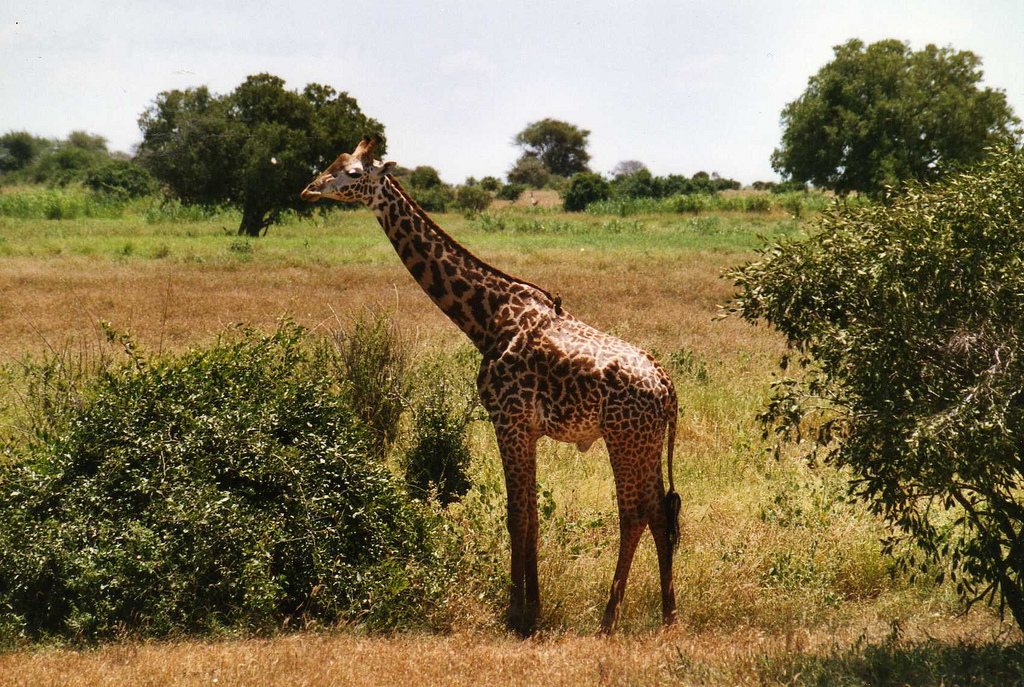giraffe: (288, 140, 734, 645)
